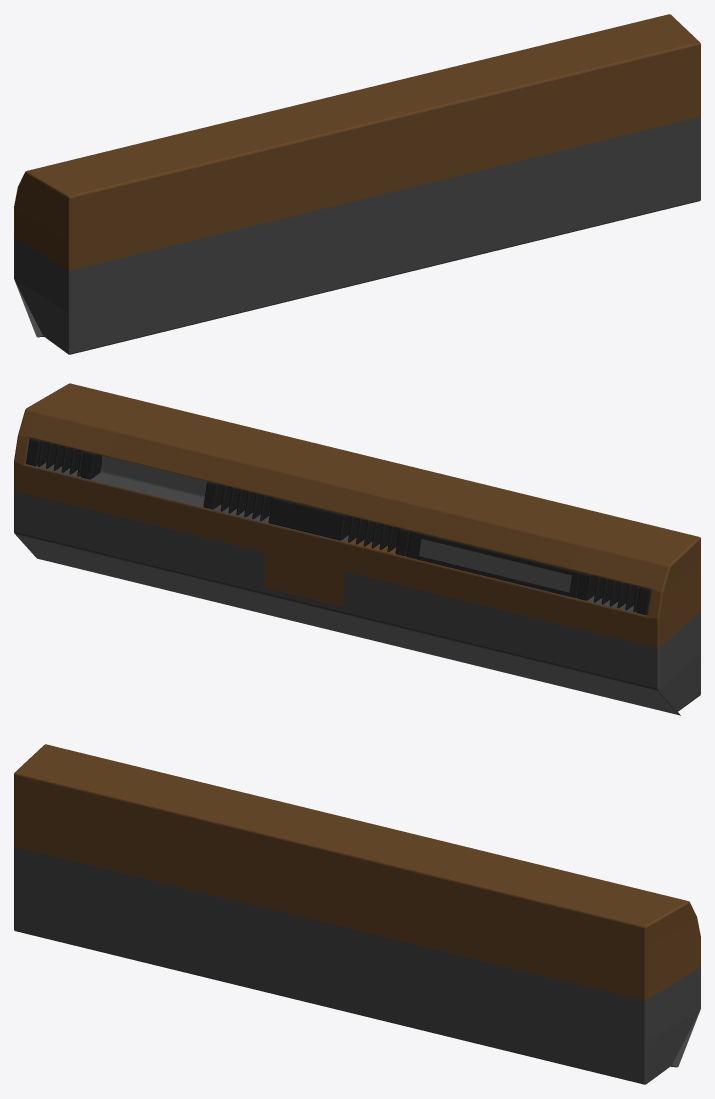
The model's file is Dashboard.fbx.
The picture shows the model from 3 angles, top to bottom: view 1: azimuth 30°, elevation 25°; view 2: azimuth 150°, elevation 25°; view 3: azimuth 330°, elevation 25°; orthographic projection.
Parts seen in each view (by area): view 1: Dashboard; view 2: Dashboard; view 3: Dashboard.
Part boxes in pixels (x1=…): Dashboard: x1=14, y1=14, x2=700, y2=354; Dashboard: x1=14, y1=383, x2=700, y2=715; Dashboard: x1=14, y1=744, x2=700, y2=1084.
Size of the model in its own units: 199 by 46.74 by 26.45.
